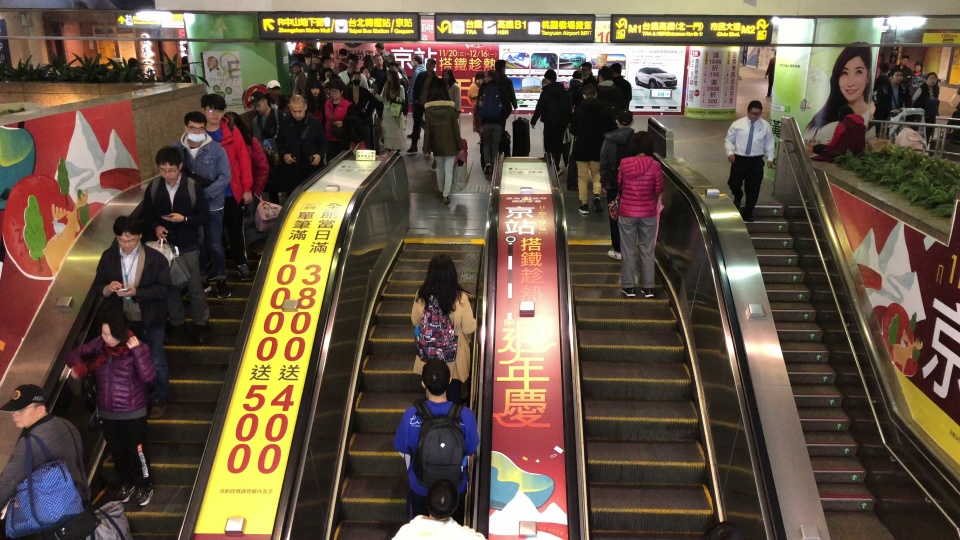person_head: (9, 383, 48, 426), (424, 477, 462, 519), (419, 358, 452, 395), (152, 143, 182, 182), (112, 214, 143, 251), (425, 251, 457, 286), (97, 310, 128, 346), (199, 93, 227, 124), (183, 110, 207, 143), (628, 129, 655, 157), (223, 110, 247, 136), (705, 519, 736, 538), (288, 93, 307, 118), (744, 98, 763, 119), (250, 91, 268, 112), (615, 108, 634, 127), (328, 79, 344, 100), (267, 78, 281, 99), (888, 65, 902, 86), (306, 80, 323, 97), (430, 86, 448, 102), (581, 81, 597, 98), (838, 104, 855, 120), (597, 65, 612, 81), (493, 58, 507, 74), (580, 62, 593, 78), (347, 54, 359, 71), (543, 68, 557, 82), (925, 70, 937, 86), (349, 70, 360, 87), (385, 68, 398, 82), (307, 68, 320, 82), (610, 61, 622, 76), (373, 53, 384, 69), (410, 52, 423, 65), (441, 67, 454, 80), (485, 68, 497, 82), (127, 56, 139, 69), (362, 54, 374, 66), (361, 65, 372, 78), (321, 55, 331, 68), (425, 57, 435, 70), (879, 61, 888, 75), (899, 52, 908, 66), (290, 60, 300, 72), (572, 69, 582, 81), (474, 69, 484, 80), (913, 60, 923, 71), (389, 61, 398, 73), (324, 68, 333, 80), (374, 41, 384, 51), (338, 46, 347, 57)
person_vbox: (63, 310, 158, 509), (92, 213, 170, 420), (391, 357, 479, 521), (141, 143, 211, 344), (0, 382, 91, 520), (170, 110, 233, 299), (198, 91, 254, 284), (409, 252, 477, 393), (616, 129, 665, 298), (222, 110, 270, 257), (721, 98, 776, 226), (387, 477, 487, 539), (598, 107, 635, 262), (567, 81, 609, 215), (423, 86, 464, 206), (274, 93, 325, 189), (530, 68, 571, 176), (250, 90, 286, 203), (368, 68, 408, 154), (405, 56, 439, 156), (476, 68, 505, 179), (810, 104, 868, 157), (323, 79, 356, 159), (871, 65, 908, 128), (405, 51, 427, 139), (494, 58, 519, 130), (341, 70, 377, 116), (911, 71, 939, 113), (388, 61, 409, 116), (336, 54, 368, 89), (608, 61, 632, 105), (441, 66, 462, 114), (304, 79, 327, 119), (597, 65, 621, 100), (290, 60, 309, 94), (762, 52, 776, 98), (369, 52, 387, 87), (466, 69, 484, 104), (263, 77, 282, 107), (908, 60, 927, 89), (868, 60, 888, 87), (890, 52, 912, 74), (579, 60, 596, 84), (338, 45, 348, 71)
